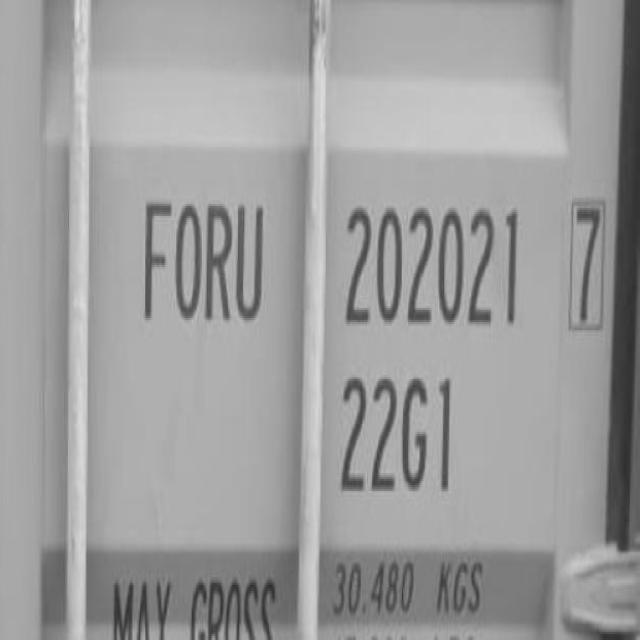dv: (562, 186, 609, 342)
owner: (134, 176, 276, 344)
serial: (330, 182, 526, 341)
size: (326, 354, 460, 505)
